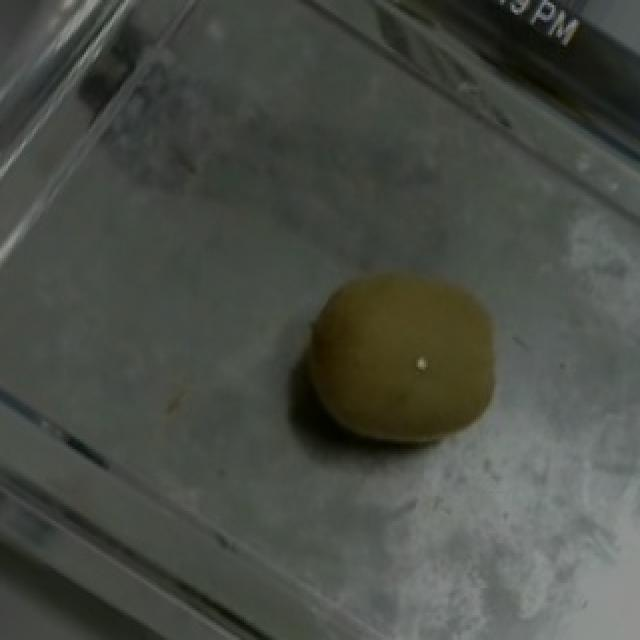Fruit: (254, 226, 546, 484)
